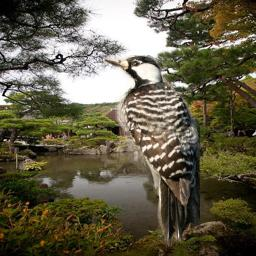Woodpecker: (103, 55, 200, 249)
